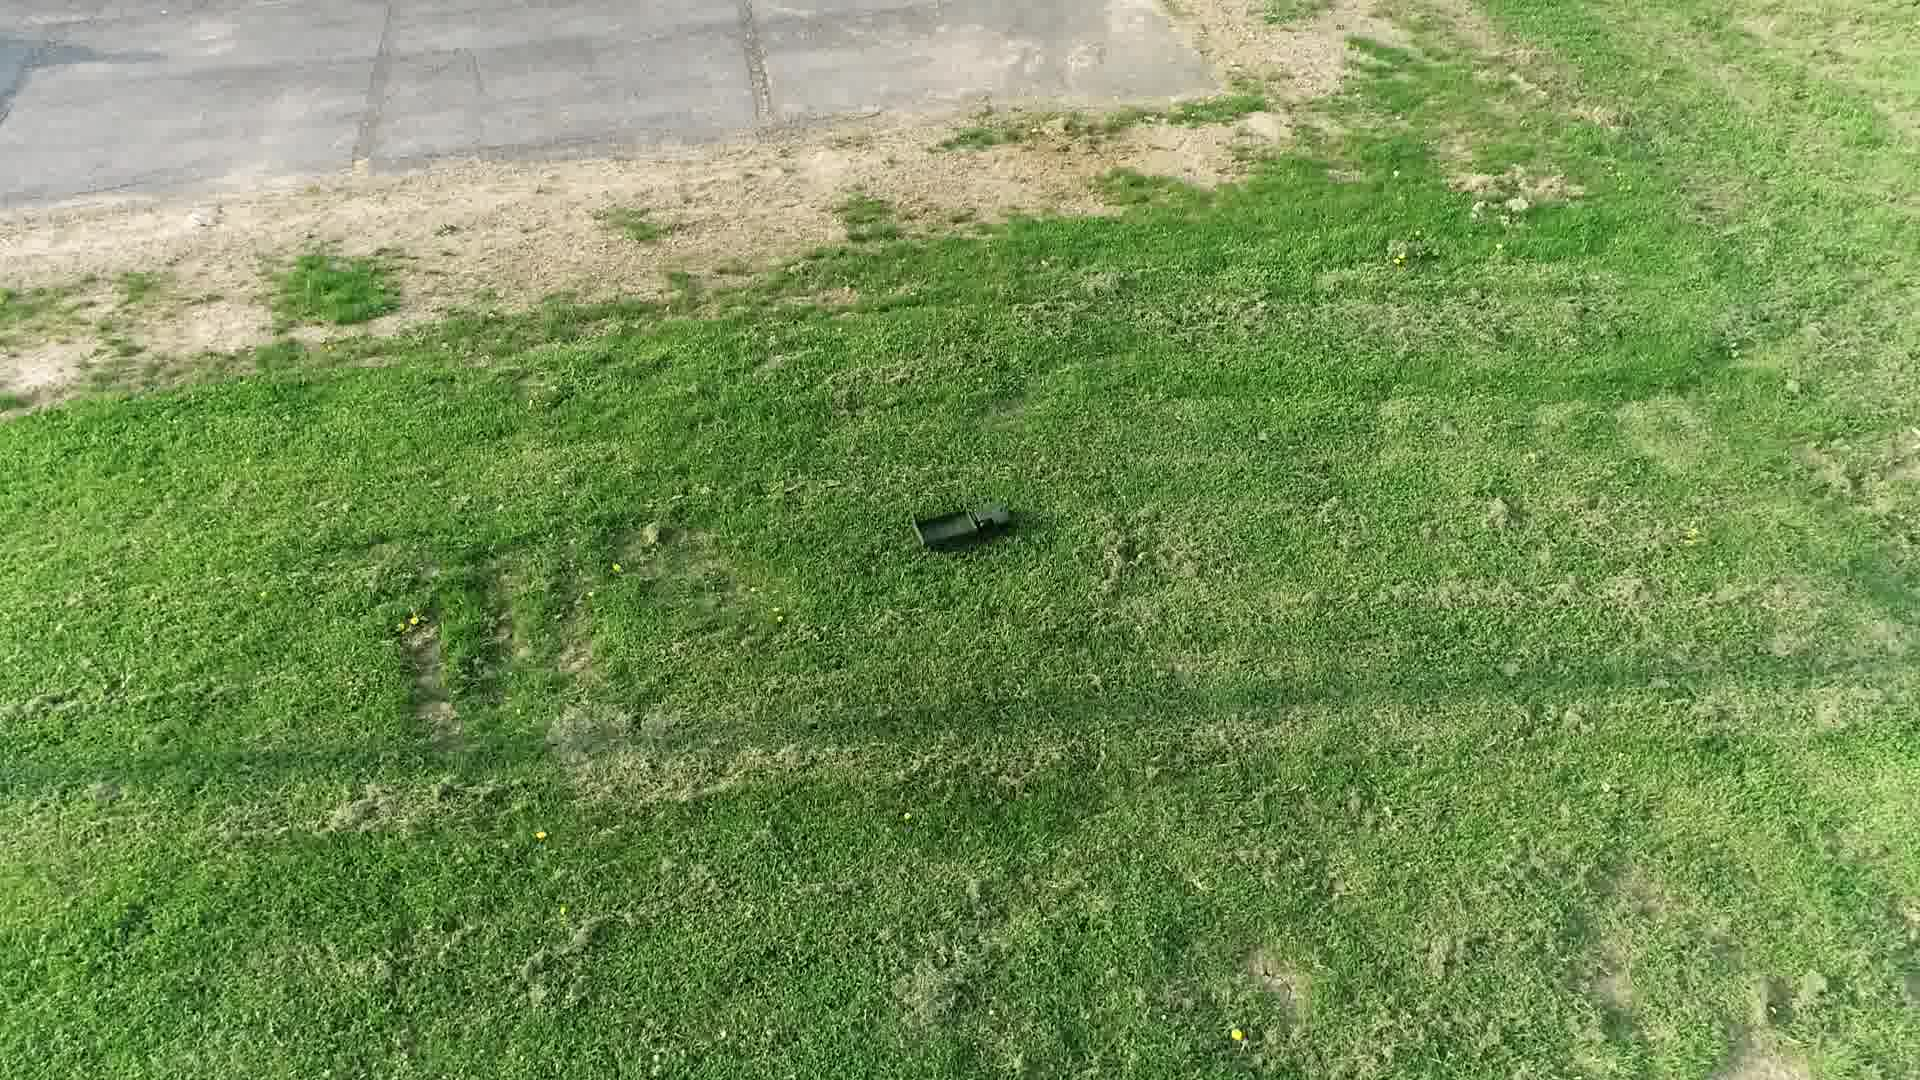transporter9: (909, 495, 1022, 556)
